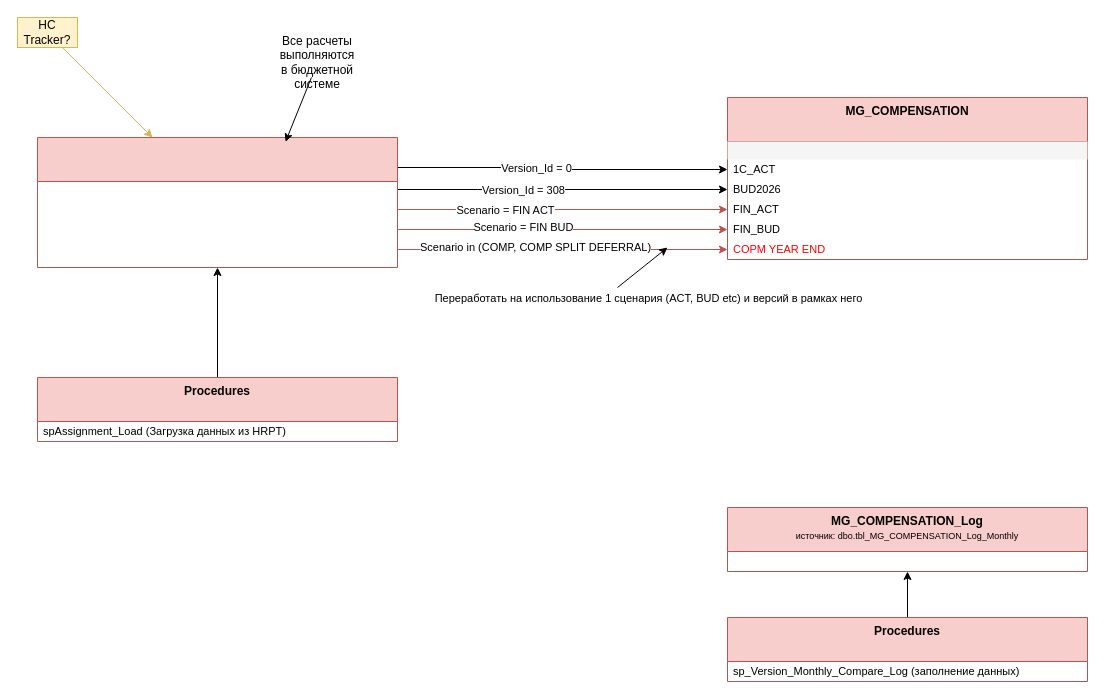
This 1105x699 diagram has some shape labels left out. Here are the shapes that lost their labels. From the top down, the centre of each, then its label:
point (907, 150): Partiotions
point (217, 202): MG_COMPENSATION_Monthly
